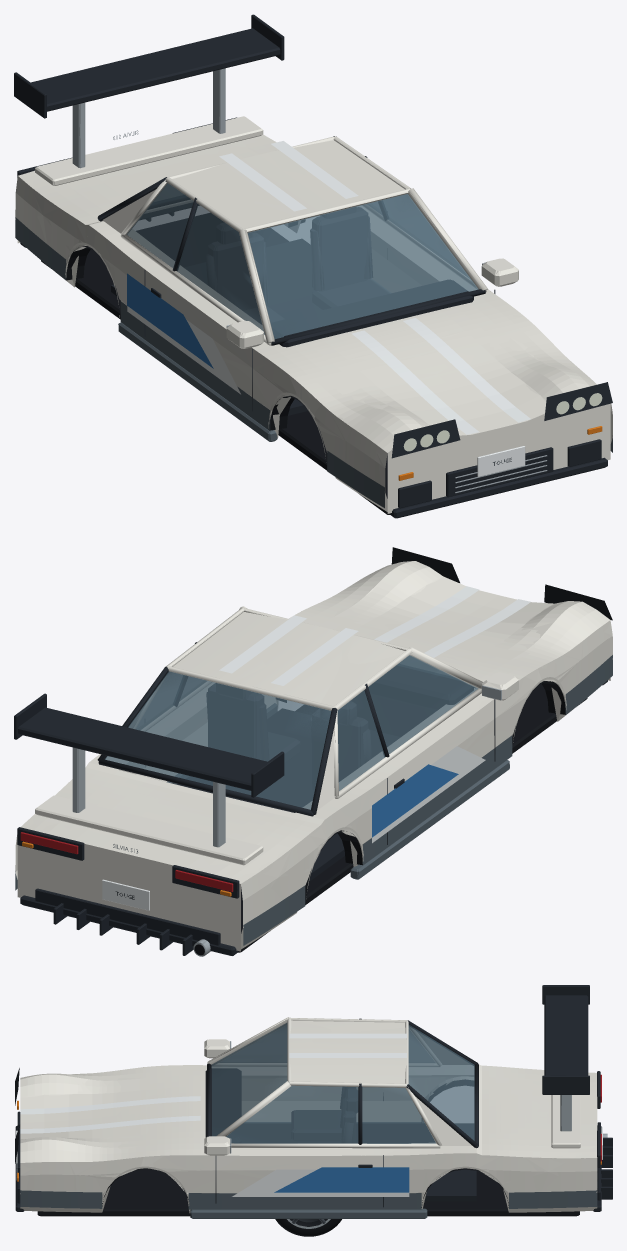
File: silvia.glb
The picture shows the model from 3 angles, top to bottom: view 1: azimuth 30°, elevation 25°; view 2: azimuth 150°, elevation 25°; view 3: azimuth 270°, elevation 25°; orthographic projection. The views are drawn at different scales.
Visible parts, largest first — view 1: LOD0_body, LOD0_cabin, LOD0_glass, LOD1_glass, LOD1_body, LOD0_hood, LOD0_spoiler_gt, LOD1_hood, LOD1_cabin, LOD1_spoiler_gt, LOD0_spoiler_stock, LOD0_vinyl_apex (+3 smaller); view 2: LOD0_body, LOD0_cabin, LOD0_glass, LOD1_glass, LOD1_body, LOD0_spoiler_gt, LOD0_hood, LOD1_hood, LOD1_cabin, LOD0_spoiler_stock, LOD0_vinyl_apex, LOD1_spoiler_stock (+3 smaller); view 3: LOD0_body, LOD0_cabin, LOD1_glass, LOD0_glass, LOD1_body, LOD0_hood, LOD1_hood, LOD1_cabin, LOD0_spoiler_gt, LOD0_vinyl_apex, LOD1_spoiler_gt, LOD0_vinyl_twin (+4 smaller).
Boxes of the visible parts, x1,y1,x2,y2 form: LOD0_body: (15, 117, 612, 518); LOD0_cabin: (97, 136, 487, 415); LOD0_glass: (127, 183, 478, 338); LOD1_glass: (126, 183, 478, 338); LOD1_body: (15, 133, 612, 518); LOD0_hood: (274, 298, 589, 435); LOD0_spoiler_gt: (14, 14, 284, 167); LOD1_hood: (331, 311, 568, 435); LOD1_cabin: (99, 136, 487, 415); LOD1_spoiler_gt: (14, 17, 284, 168); LOD0_spoiler_stock: (35, 116, 262, 185); LOD0_vinyl_apex: (127, 273, 240, 394); LOD0_body: (15, 547, 612, 956); LOD0_cabin: (97, 606, 482, 881); LOD0_glass: (105, 655, 477, 809); LOD1_glass: (105, 655, 477, 809); LOD1_body: (15, 565, 612, 955); LOD0_spoiler_gt: (14, 693, 284, 847); LOD0_hood: (303, 561, 595, 690); LOD1_hood: (334, 566, 553, 679); LOD1_cabin: (98, 608, 481, 880); LOD0_spoiler_stock: (35, 795, 263, 865); LOD0_vinyl_apex: (372, 746, 485, 843); LOD1_spoiler_stock: (35, 795, 263, 865); LOD0_body: (15, 1039, 612, 1218); LOD0_cabin: (205, 1017, 478, 1201); LOD1_glass: (211, 1023, 474, 1143); LOD0_glass: (211, 1023, 474, 1143); LOD1_body: (16, 1039, 601, 1218); LOD0_hood: (20, 1070, 206, 1153); LOD1_hood: (20, 1076, 189, 1147); LOD1_cabin: (207, 1018, 478, 1201); LOD0_spoiler_gt: (542, 985, 589, 1131); LOD0_vinyl_apex: (232, 1167, 409, 1196); LOD1_spoiler_gt: (542, 986, 589, 1130); LOD0_vinyl_twin: (30, 1033, 406, 1133).
Bounding box in the file's own units: 1.95 × 1.73 × 4.64.
